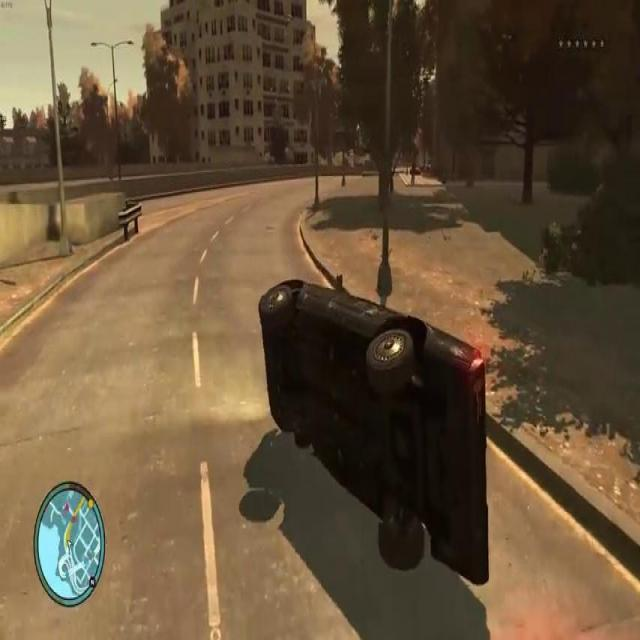accident: (256, 270, 492, 594)
